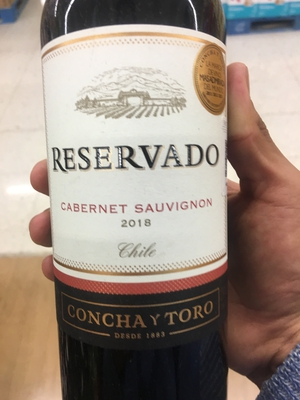reservado cabernet sauvignon: (37, 1, 224, 399)
